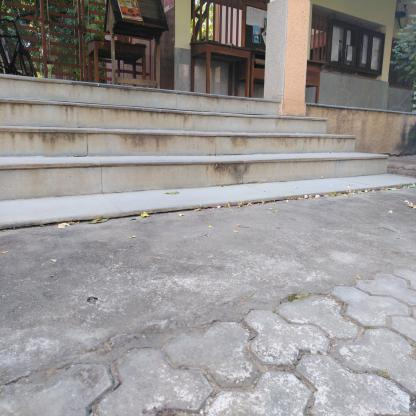stairs: (3, 99, 280, 199)
